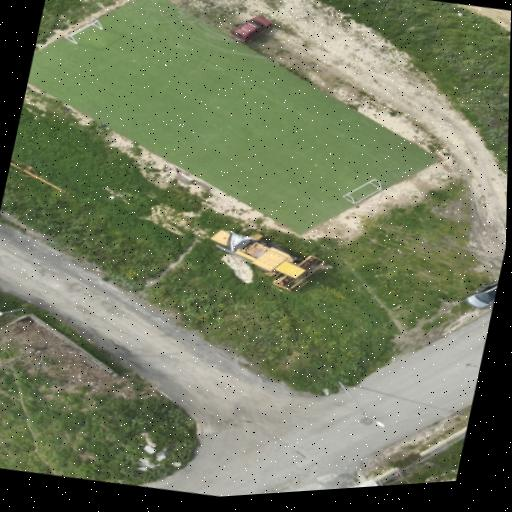car: (231, 16, 271, 43), (465, 281, 497, 309)
harvester: (210, 230, 329, 291)
